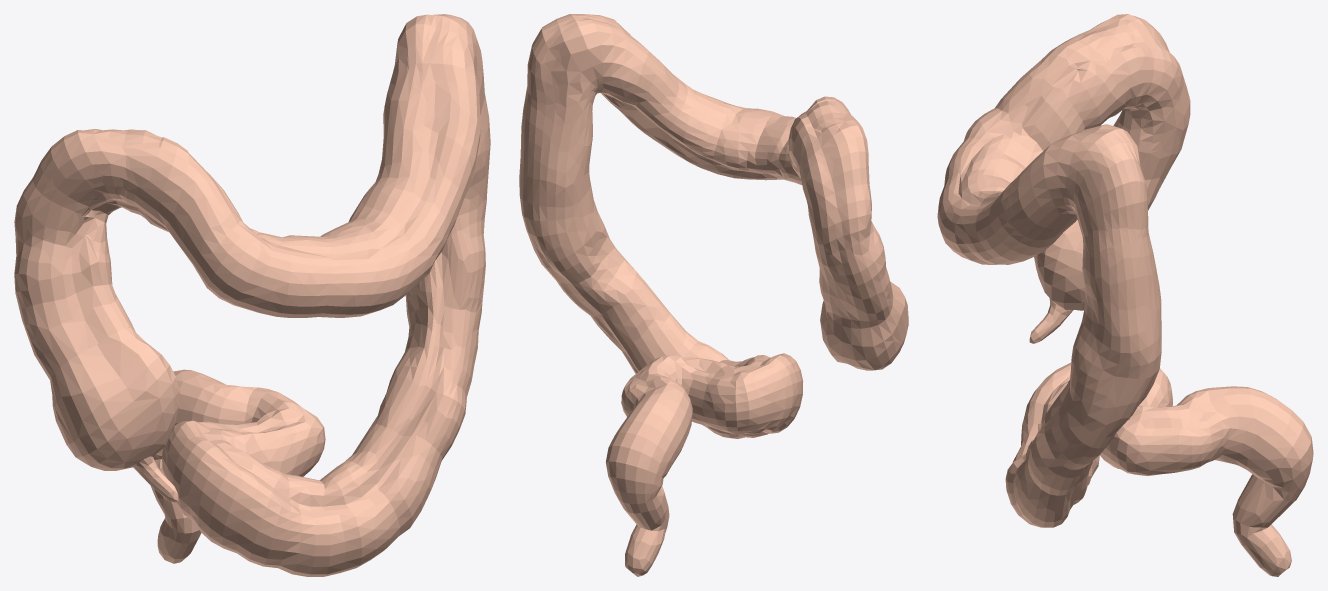
Rendered from SBU_F_Intestine_Large_0.6.glb.
3 views of the same model, side by side, from view 1: azimuth 30°, elevation 25°; view 2: azimuth 150°, elevation 25°; view 3: azimuth 270°, elevation 25° (orthographic). The views are drawn at different scales.
Parts seen in each view (by area): view 1: VH_F_transverse_colon, VH_F_descending_colon, VH_F_sigmoid_colon, VH_F_ascending_colon, VH_F_caecum, VH_F_rectum, VH_F_hepatic_flexure_of_colon, VH_F_splenic_flexure_of_colon, VH_F_vermiform_appendix; view 2: VH_F_descending_colon, VH_F_transverse_colon, VH_F_ascending_colon, VH_F_rectum, VH_F_sigmoid_colon, VH_F_caecum, VH_F_splenic_flexure_of_colon, VH_F_hepatic_flexure_of_colon; view 3: VH_F_descending_colon, VH_F_transverse_colon, VH_F_rectum, VH_F_sigmoid_colon, VH_F_ascending_colon, VH_F_hepatic_flexure_of_colon, VH_F_caecum, VH_F_splenic_flexure_of_colon, VH_F_vermiform_appendix.
Part boxes in pixels (x1,y1,x2,y2): VH_F_transverse_colon: [78, 14, 480, 317]; VH_F_descending_colon: [278, 14, 490, 576]; VH_F_sigmoid_colon: [162, 385, 325, 567]; VH_F_ascending_colon: [14, 130, 135, 379]; VH_F_caecum: [50, 327, 179, 470]; VH_F_rectum: [150, 369, 230, 563]; VH_F_hepatic_flexure_of_colon: [26, 129, 188, 261]; VH_F_splenic_flexure_of_colon: [383, 14, 489, 155]; VH_F_vermiform_appendix: [133, 456, 178, 502]; VH_F_descending_colon: [519, 14, 744, 438]; VH_F_transverse_colon: [570, 14, 862, 185]; VH_F_ascending_colon: [800, 125, 893, 328]; VH_F_rectum: [605, 379, 692, 576]; VH_F_sigmoid_colon: [622, 353, 803, 437]; VH_F_caecum: [820, 282, 908, 370]; VH_F_splenic_flexure_of_colon: [525, 16, 649, 142]; VH_F_hepatic_flexure_of_colon: [788, 96, 874, 255]; VH_F_descending_colon: [1005, 129, 1161, 527]; VH_F_transverse_colon: [937, 14, 1164, 264]; VH_F_rectum: [1196, 386, 1313, 576]; VH_F_sigmoid_colon: [1021, 362, 1201, 476]; VH_F_ascending_colon: [1113, 15, 1190, 210]; VH_F_hepatic_flexure_of_colon: [1049, 20, 1187, 150]; VH_F_caecum: [1034, 220, 1085, 310]; VH_F_splenic_flexure_of_colon: [1009, 130, 1148, 262]; VH_F_vermiform_appendix: [1029, 298, 1073, 343].
Bounding box in the file's own units: 0.2433 × 0.2954 × 0.1934.
